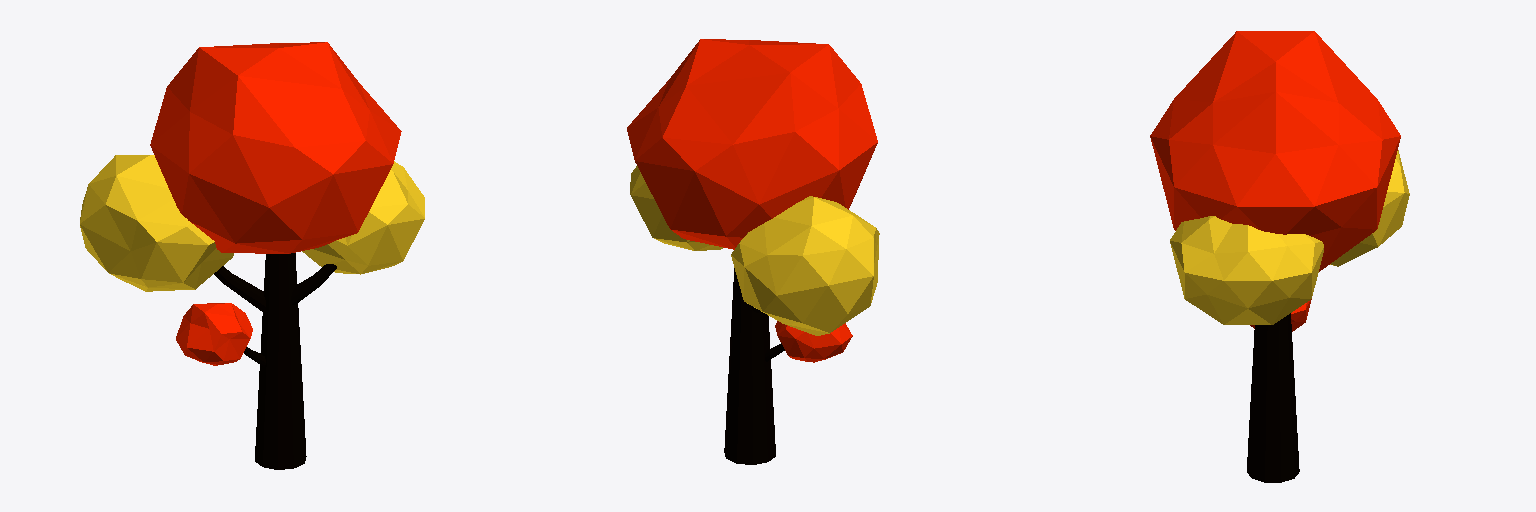
The picture shows the model from 3 angles: view 1: azimuth 30°, elevation 25°; view 2: azimuth 150°, elevation 25°; view 3: azimuth 270°, elevation 25°; orthographic projection.
Visible parts, largest first — view 1: leaves_Orange_0_leaves_Orange_0.001, leaves_Yellow_0_leaves_Yellow_0.001, branches_brown_0_branches_brown_0.001; view 2: leaves_Orange_0_leaves_Orange_0.001, leaves_Yellow_0_leaves_Yellow_0.001, branches_brown_0_branches_brown_0.001; view 3: leaves_Orange_0_leaves_Orange_0.001, leaves_Yellow_0_leaves_Yellow_0.001, branches_brown_0_branches_brown_0.001.
Boxes of the visible parts, box(x1,y1,x2,y2) form: leaves_Orange_0_leaves_Orange_0.001: box(150, 42, 401, 365); leaves_Yellow_0_leaves_Yellow_0.001: box(80, 155, 424, 291); branches_brown_0_branches_brown_0.001: box(214, 253, 336, 469); leaves_Orange_0_leaves_Orange_0.001: box(627, 39, 877, 362); leaves_Yellow_0_leaves_Yellow_0.001: box(630, 166, 879, 335); branches_brown_0_branches_brown_0.001: box(724, 268, 784, 464); leaves_Orange_0_leaves_Orange_0.001: box(1150, 31, 1400, 331); leaves_Yellow_0_leaves_Yellow_0.001: box(1170, 150, 1409, 324); branches_brown_0_branches_brown_0.001: box(1247, 313, 1299, 482).
Bounding box in the file's own units: 190 × 265 × 151.